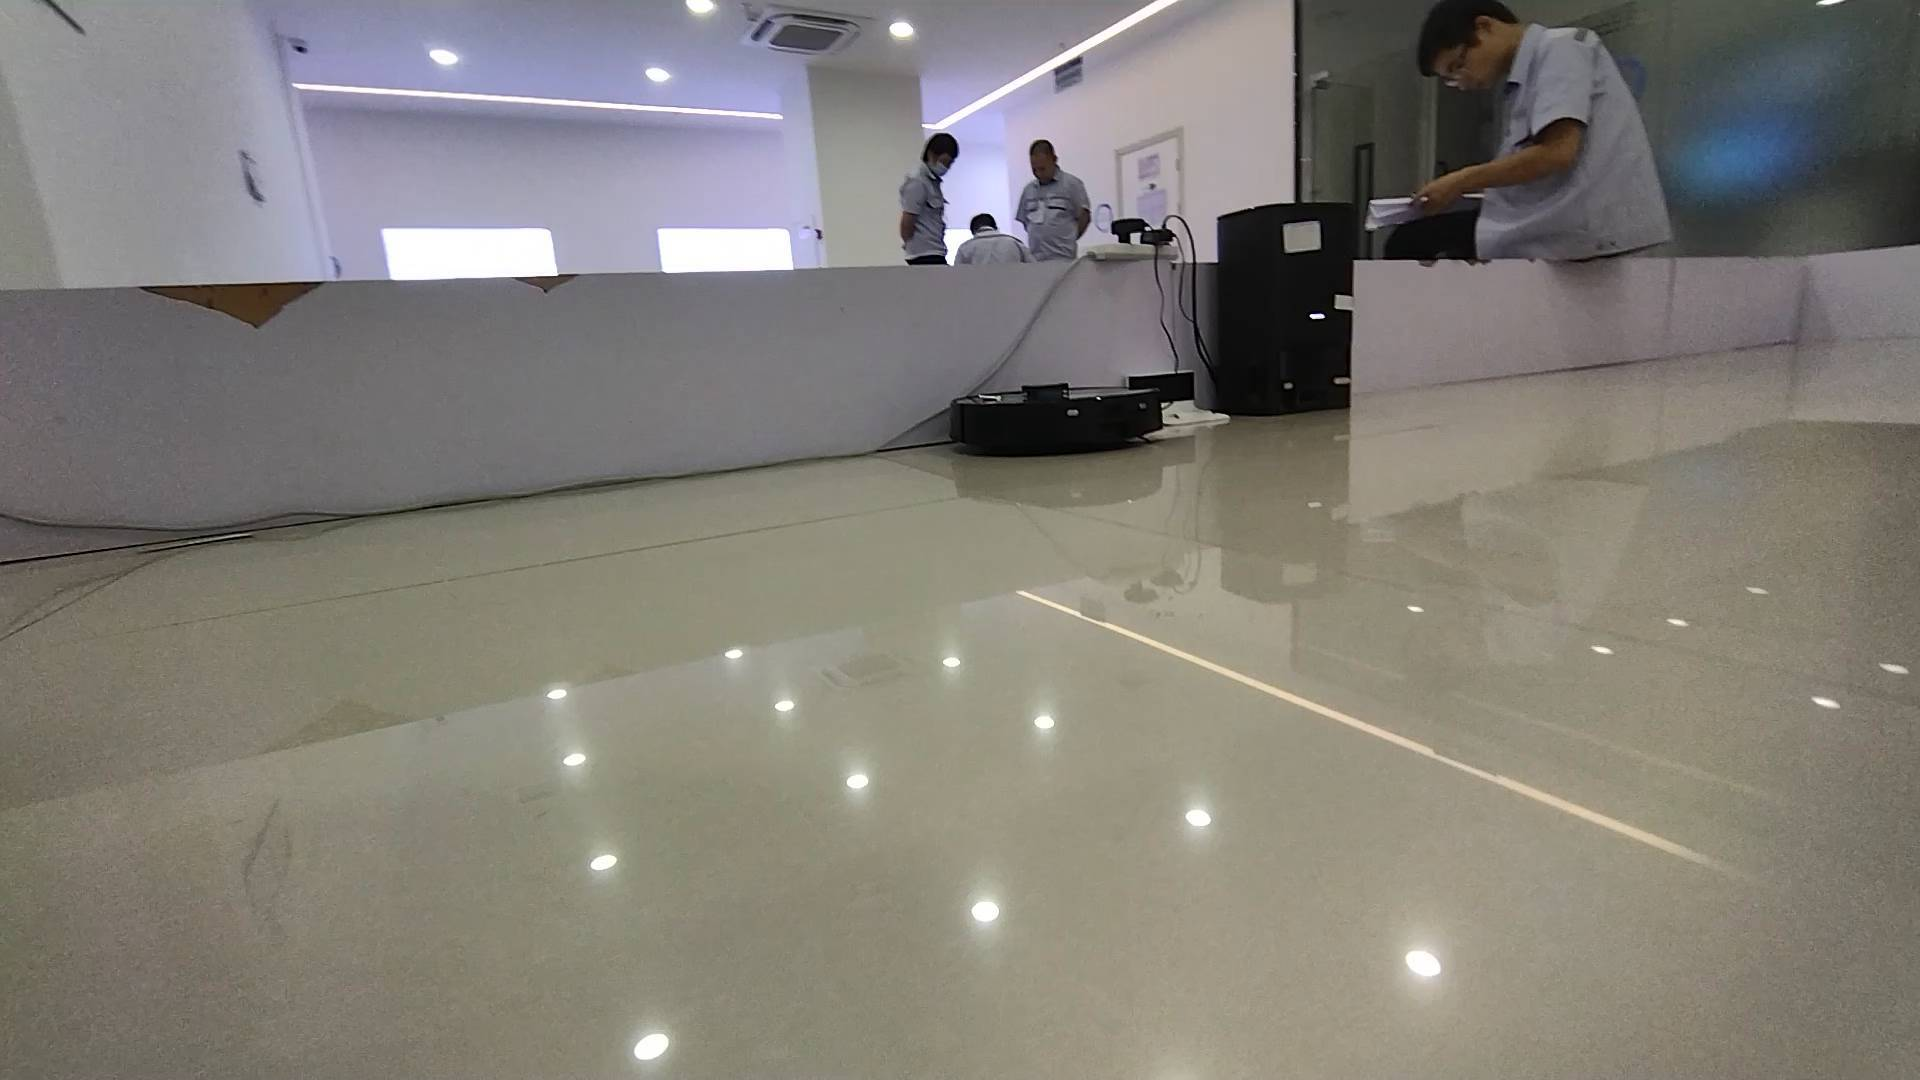dust collecting barrel: (1216, 204, 1364, 415)
recharge seat: (1124, 371, 1230, 427)
